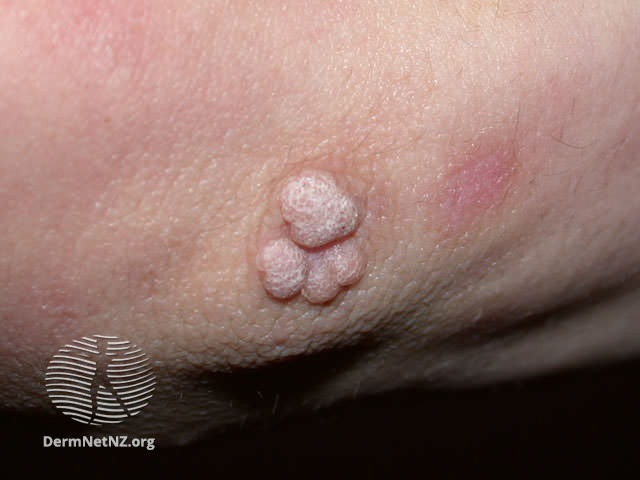Warts: (254, 155, 370, 312)
